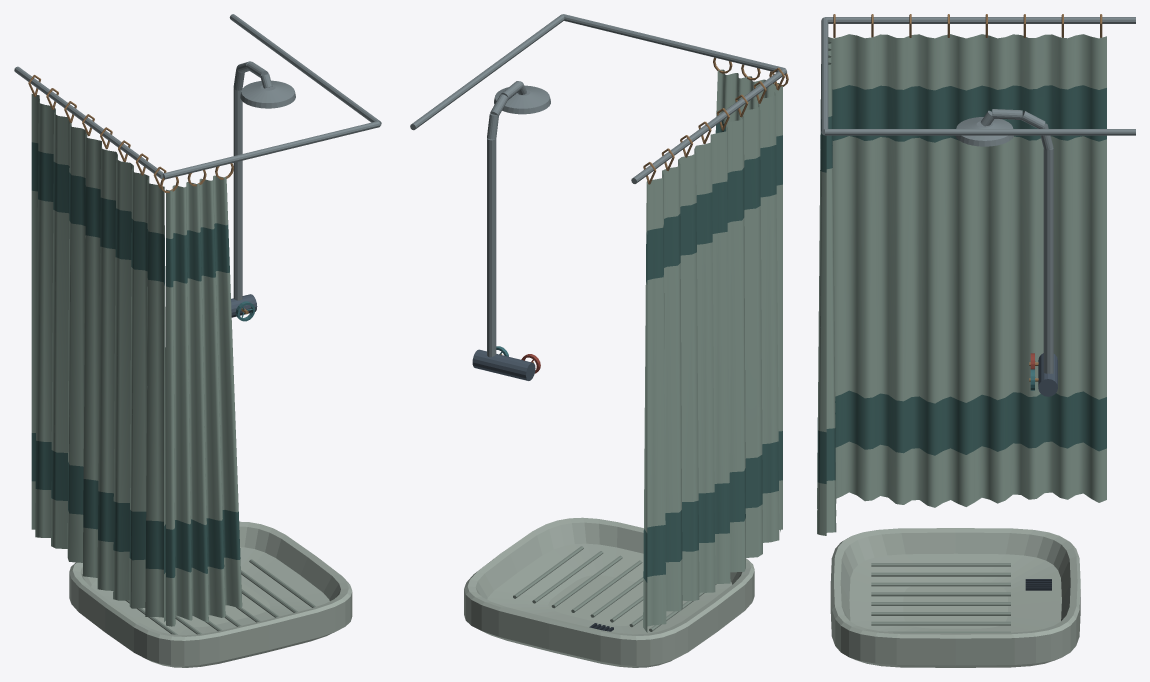
File: W-01_shower.glb
3 renders of one model, left to right at view 1: azimuth 30°, elevation 25°; view 2: azimuth 150°, elevation 25°; view 3: azimuth 270°, elevation 25°, orthographic. The views are drawn at different scales.
Visible parts, largest first — view 1: W-01_shower; view 2: W-01_shower; view 3: W-01_shower.
Boxes of the visible parts, x1,y1,x2,y2 form: W-01_shower: (14,14,381,667); W-01_shower: (410,14,788,667); W-01_shower: (817,14,1135,667).
Size of the model in its own units: 0.9505 by 2.08 by 1.1.
